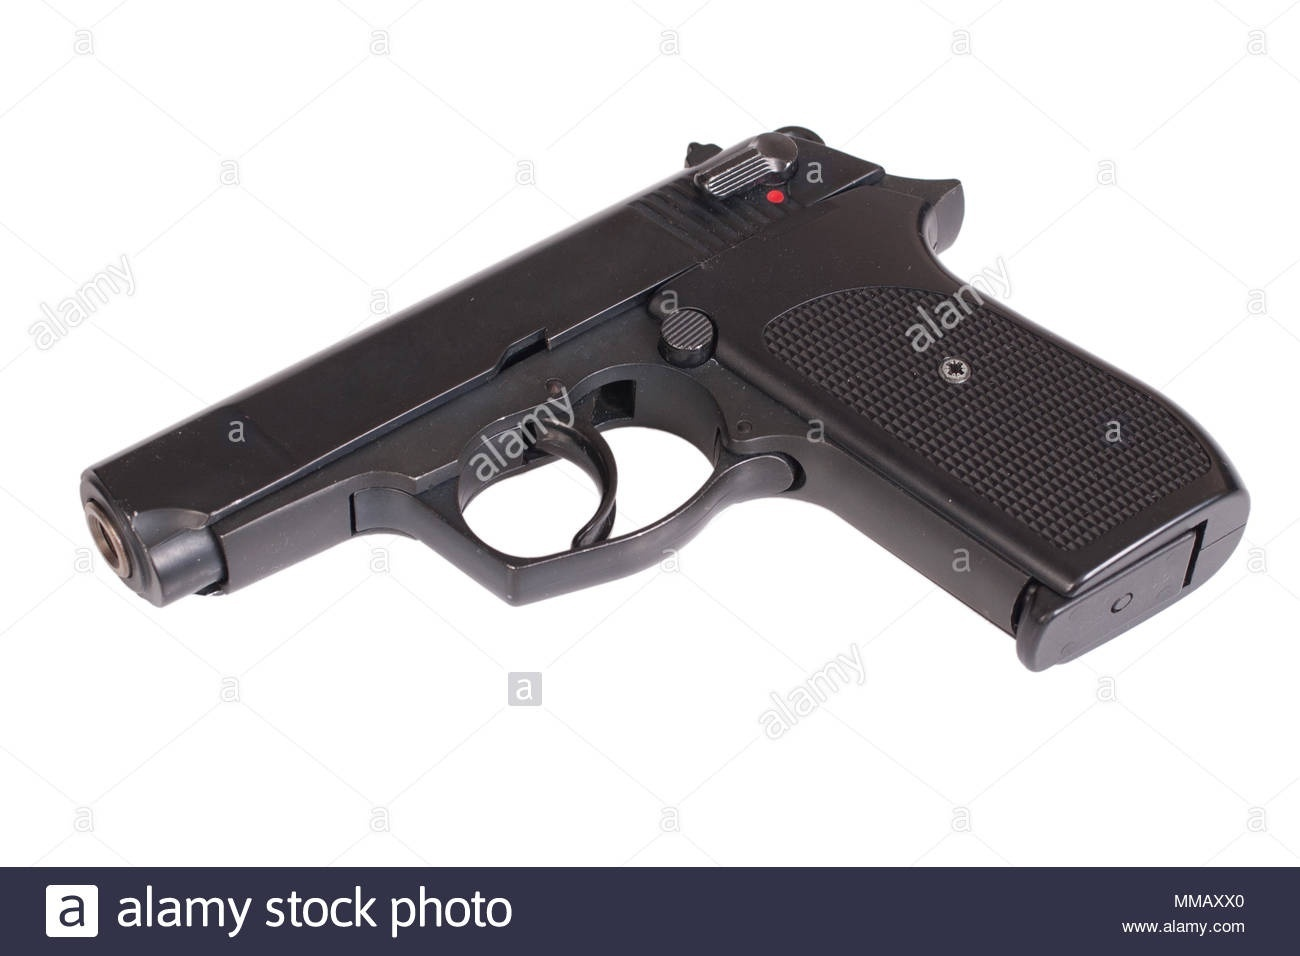pistol: (76, 120, 1253, 673)
